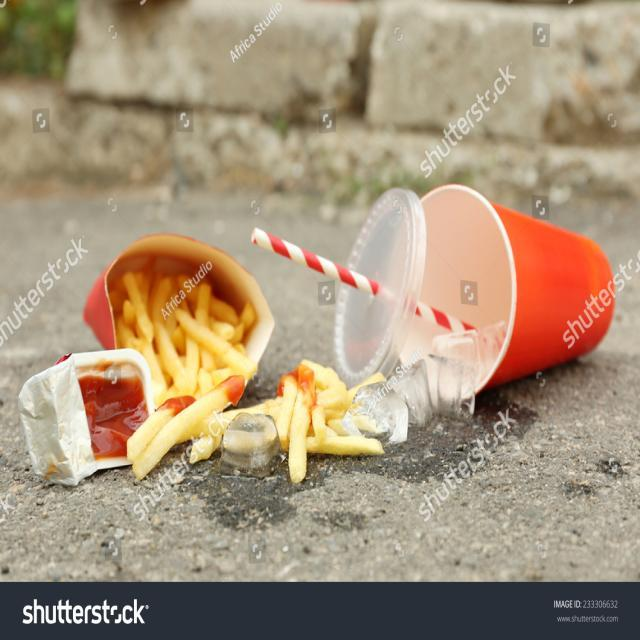fabric: (126, 364, 392, 468), (108, 267, 242, 409)
leaf: (342, 156, 619, 399)
wood: (36, 330, 150, 490)
